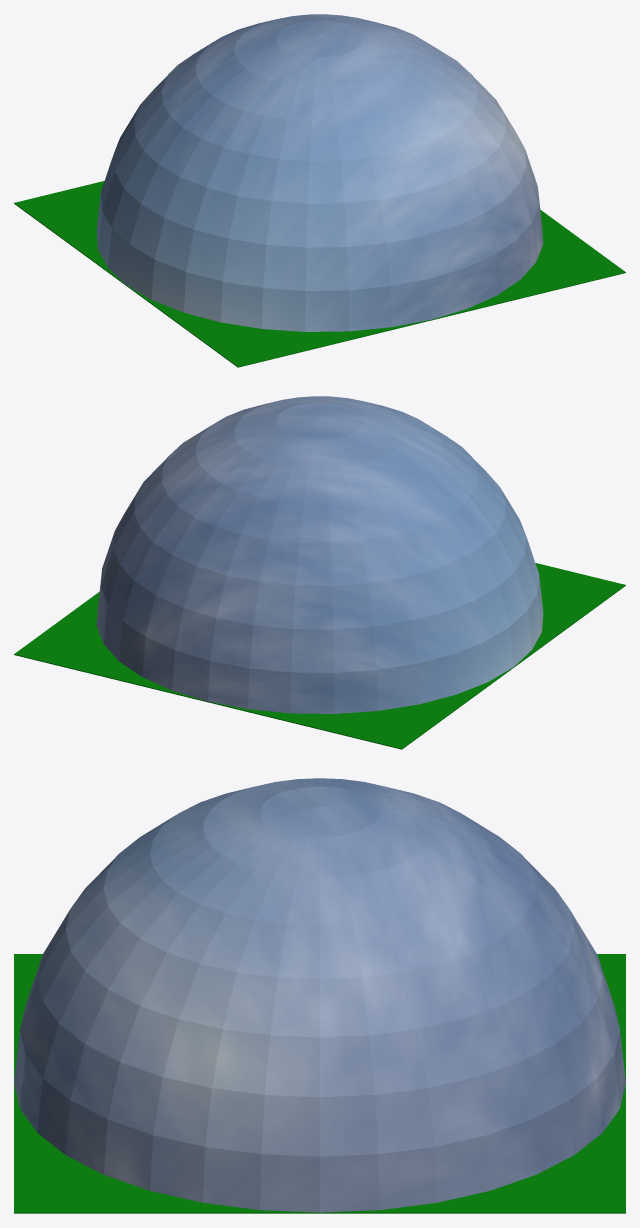
The model's file is shitassterrain.gltf.
3 renders of one model, top to bottom at view 1: azimuth 30°, elevation 25°; view 2: azimuth 150°, elevation 25°; view 3: azimuth 270°, elevation 25°, orthographic. The views are drawn at different scales.
Visible parts, largest first — view 1: Sphere.001, Cube; view 2: Sphere.001, Cube; view 3: Sphere.001, Cube.
Part boxes in pixels (x1,y1,x2,y2): Sphere.001: [96, 14, 543, 331]; Cube: [14, 181, 625, 367]; Sphere.001: [96, 396, 543, 713]; Cube: [14, 563, 625, 749]; Sphere.001: [14, 778, 625, 1212]; Cube: [14, 954, 625, 1213].
Size of the model in its own units: 200 by 100 by 200.
2 materials, 2 textured.
